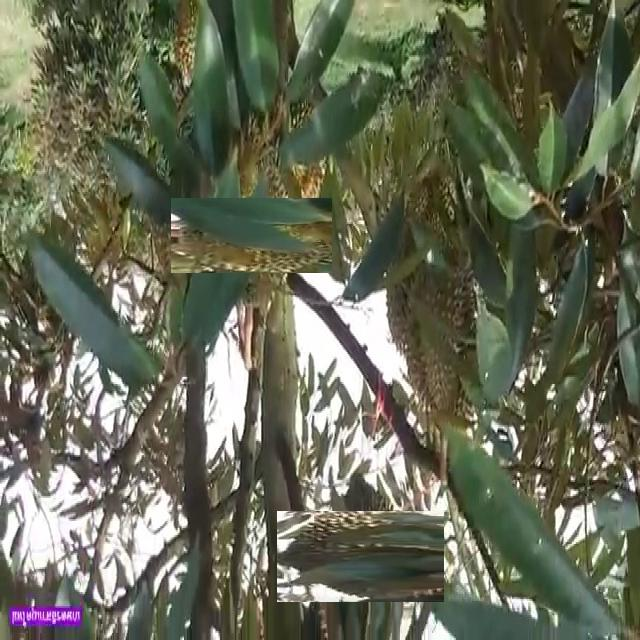durian: (403, 242, 493, 441), (296, 492, 425, 621), (192, 176, 311, 294)
